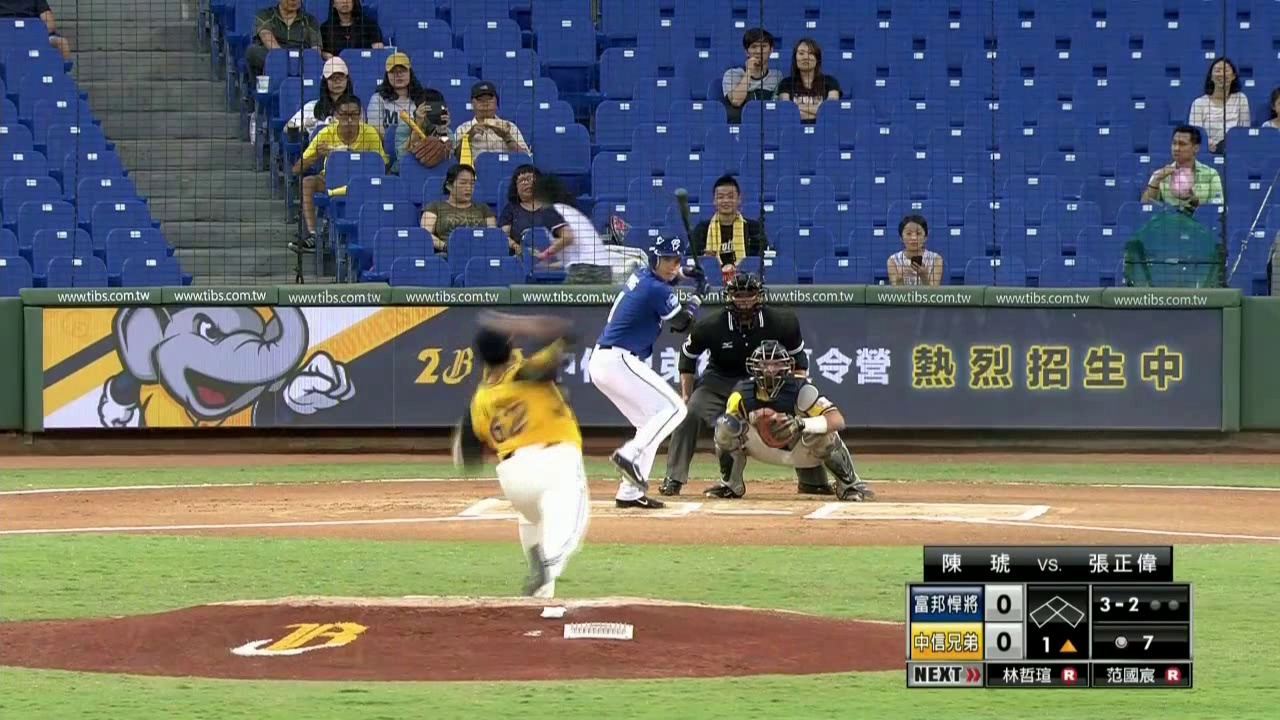ball: (478, 313, 495, 324)
base: (1030, 591, 1085, 633)
bat: (679, 191, 705, 285)
out: (1145, 593, 1183, 615)
score1: (988, 588, 1020, 617)
score2: (985, 627, 1019, 655)
session: (1030, 638, 1082, 660)
strikeball: (1094, 592, 1141, 617)
total: (1108, 629, 1157, 655)
